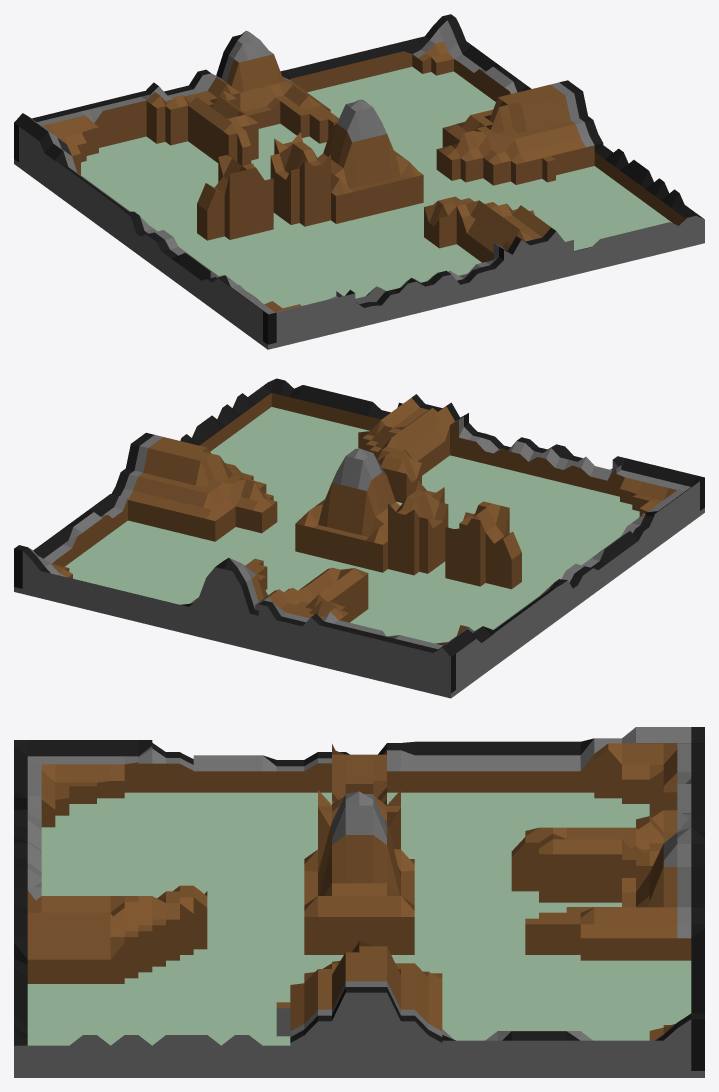
Rendered from EscenarioFinal.fbx.
3 renders of one model, top to bottom at view 1: azimuth 30°, elevation 25°; view 2: azimuth 150°, elevation 25°; view 3: azimuth 270°, elevation 25°, orthographic. The views are drawn at different scales.
Visible parts, largest first — view 1: EscenarioFinal; view 2: EscenarioFinal; view 3: EscenarioFinal.
Part boxes in pixels (x1=…): EscenarioFinal: x1=14, y1=14, x2=704, y2=349; EscenarioFinal: x1=14, y1=378, x2=704, y2=698; EscenarioFinal: x1=14, y1=727, x2=704, y2=1077.
Size of the model in its own units: 9186 by 2087 by 9245.
